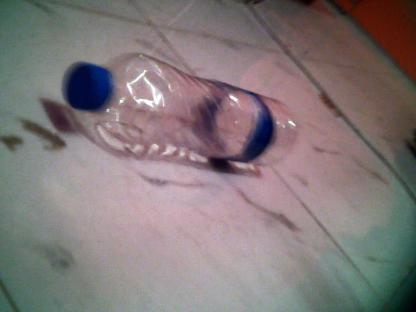Plastic Bottle: (64, 52, 298, 172)
